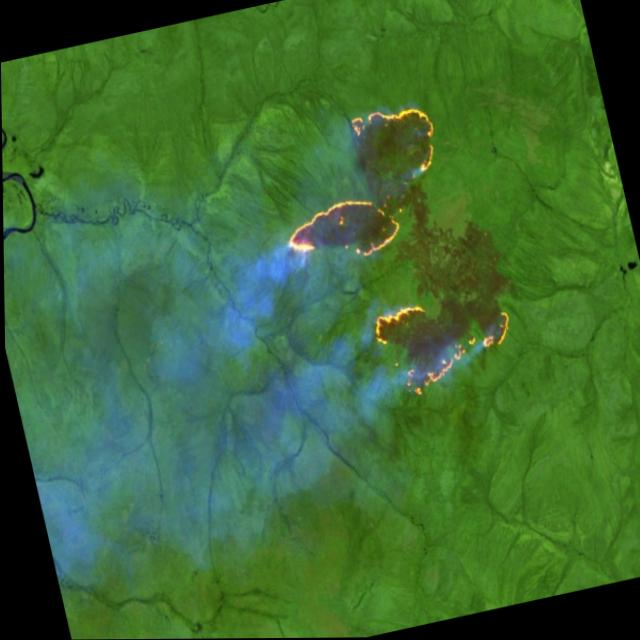fire: (247, 81, 529, 428)
